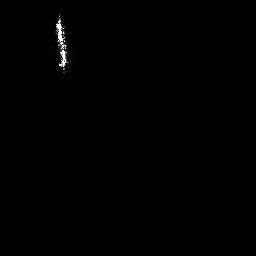ship: (52, 14, 70, 72)
